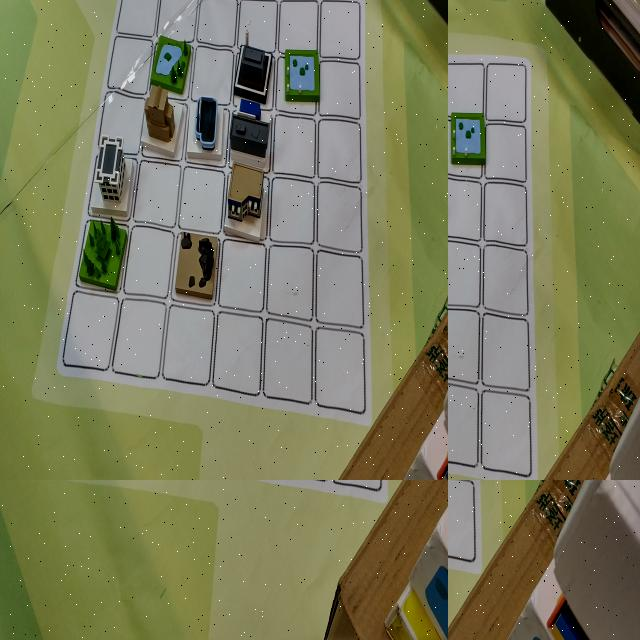bus_stop: (94, 348, 152, 456), (448, 336, 478, 439), (185, 480, 246, 524), (448, 480, 472, 521)
factory: (247, 480, 318, 537), (451, 86, 493, 158), (0, 343, 23, 407), (448, 480, 469, 521)
fish_pool: (311, 480, 371, 522), (448, 105, 473, 188), (448, 480, 470, 519)
forest: (168, 480, 238, 529), (448, 13, 471, 90), (448, 480, 473, 523)
gogo_shop: (32, 389, 91, 480), (176, 480, 242, 523), (448, 233, 475, 327), (448, 480, 470, 520)
research_build: (249, 480, 305, 527), (448, 64, 474, 149), (448, 480, 472, 523)
restaurant: (251, 480, 308, 526), (448, 33, 469, 111), (448, 480, 473, 523)
silicate_rock: (204, 480, 272, 532), (448, 29, 469, 103), (0, 434, 26, 480), (448, 480, 472, 524)
volunteer_center: (88, 480, 153, 530), (448, 34, 468, 113), (448, 480, 469, 517)
wet_land: (487, 134, 537, 215), (105, 480, 166, 521), (0, 257, 20, 330), (448, 480, 473, 518)
